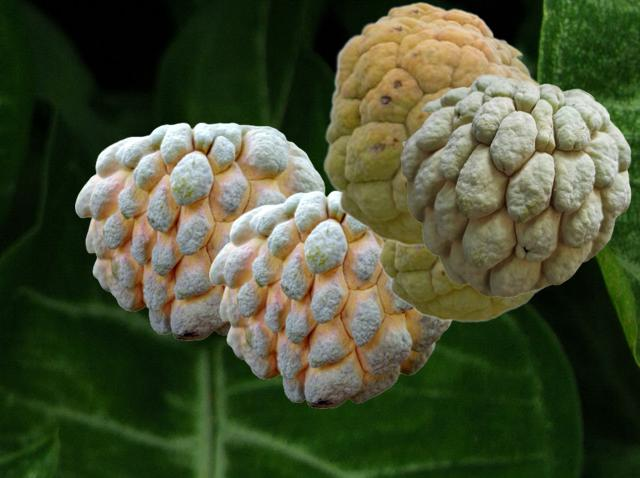atis: (75, 122, 324, 339), (209, 190, 453, 407), (400, 74, 630, 296), (322, 15, 540, 247), (377, 240, 541, 321), (376, 1, 532, 75)
